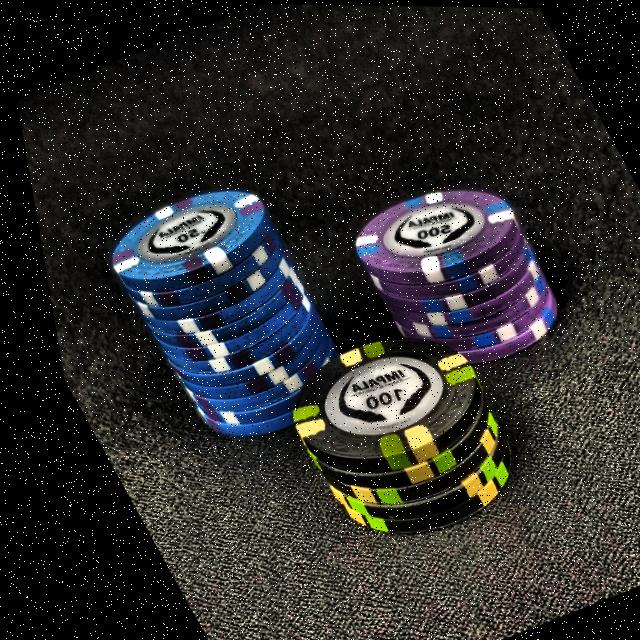Chip: (63, 156, 373, 461), (237, 303, 542, 563), (313, 154, 587, 399)
